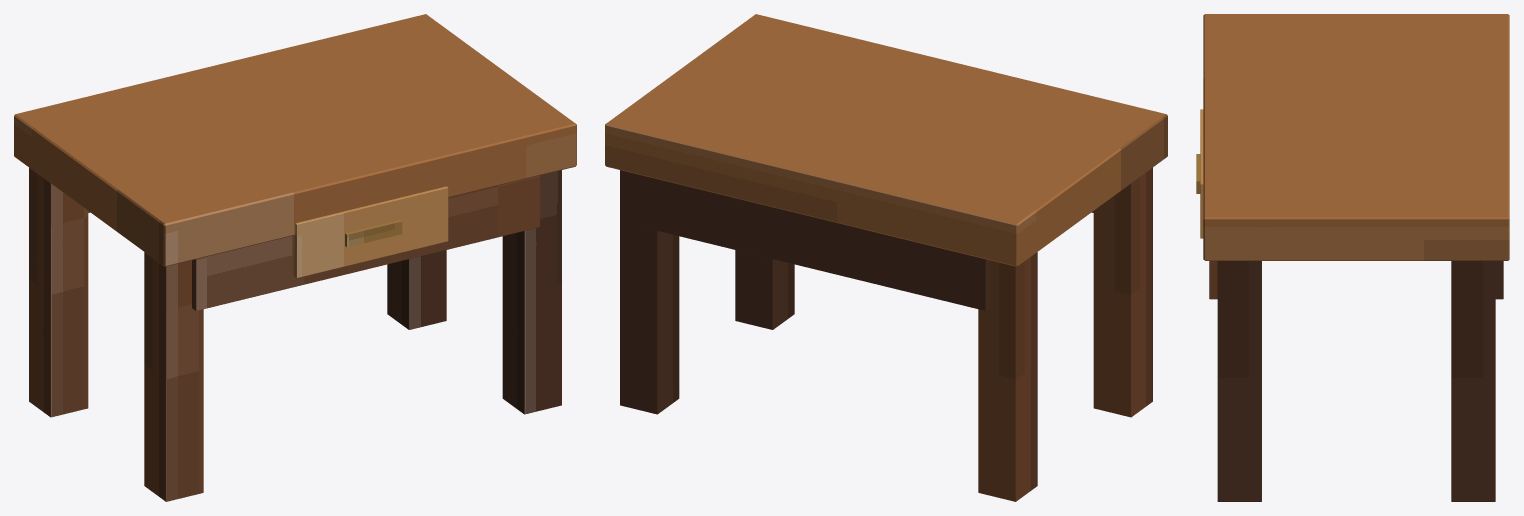
File: wooden_table.glb
The picture shows the model from 3 angles, left to right: view 1: azimuth 30°, elevation 25°; view 2: azimuth 150°, elevation 25°; view 3: azimuth 270°, elevation 25°; orthographic projection.
Parts seen in each view (by area): view 1: TableTop, TableLeg_1, TableLeg_3, TableLeg_2, FrontApron, TableDrawer, TableLeg_4, DrawerHandle; view 2: TableTop, BackApron, TableLeg_3, TableLeg_1, TableLeg_4, TableLeg_2; view 3: TableTop, TableLeg_2, TableLeg_4, TableDrawer.
Part boxes in pixels (box(x1,y1,x2,y2)): TableTop: box(14, 14, 576, 266); TableLeg_1: box(144, 252, 203, 501); TableLeg_3: box(29, 167, 88, 417); TableLeg_2: box(502, 170, 561, 414); FrontApron: box(192, 175, 539, 310); TableDrawer: box(292, 186, 448, 277); TableLeg_4: box(387, 250, 446, 329); DrawerHandle: box(345, 220, 402, 247); TableTop: box(605, 14, 1167, 266); BackApron: box(642, 175, 989, 310); TableLeg_3: box(978, 252, 1037, 501); TableLeg_1: box(1093, 167, 1152, 417); TableLeg_4: box(620, 170, 679, 414); TableLeg_2: box(735, 250, 794, 329); TableTop: box(1203, 14, 1509, 260); TableLeg_2: box(1217, 261, 1261, 501); TableLeg_4: box(1451, 261, 1495, 501); TableDrawer: box(1200, 109, 1203, 238).
Size of the model in its own units: 1.2 by 0.79 by 0.778.
Materials: 1 (1 with a texture image).
